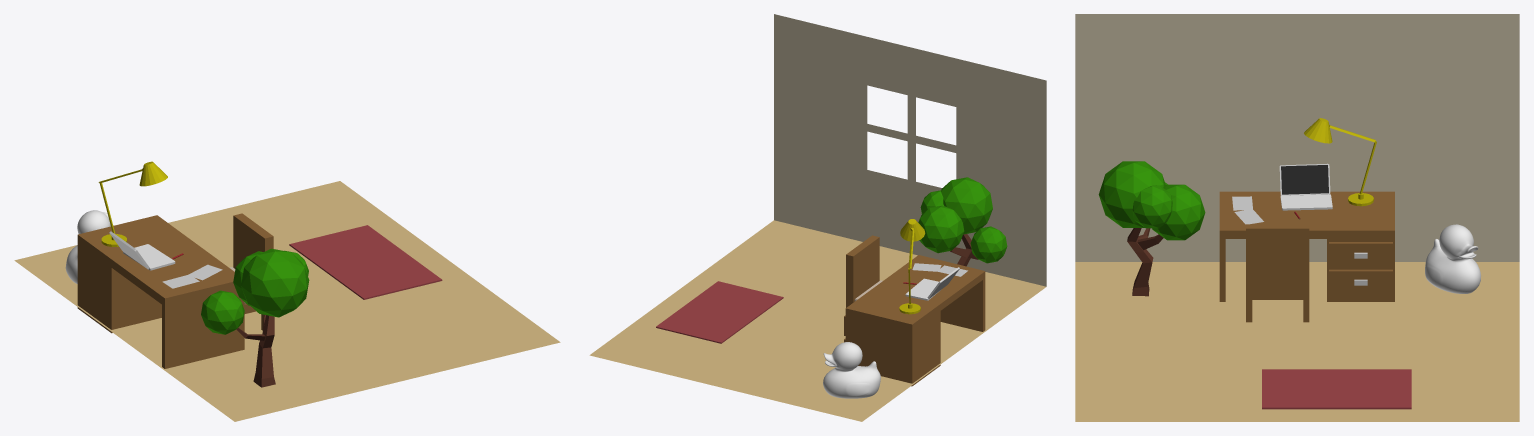
Rendered from baked.gltf.
3 views of the same model, side by side, from view 1: azimuth 30°, elevation 25°; view 2: azimuth 150°, elevation 25°; view 3: azimuth 270°, elevation 25° (orthographic). The views are drawn at different scales.
Visible parts, largest first — view 1: Plane, Cube.004, Cube.001, Icosphere.003, Cube.006, Cube, Laptop_Cube.010, Cylinder.001, rubber_duck_toy; view 2: Plane, Cube.004, Icosphere.003, Cube.001, rubber_duck_toy, Cube.006, Cylinder.001, Laptop_Cube.010; view 3: Plane, Cube.004, Cube.001, Icosphere.003, Cube.006, rubber_duck_toy, Laptop_Cube.010, Cube, Cylinder.001.
Part boxes in pixels (bbox=[...]): Plane: bbox=[14, 181, 560, 421]; Cube.004: bbox=[77, 215, 244, 368]; Cube.001: bbox=[289, 225, 442, 299]; Icosphere.003: bbox=[201, 248, 309, 334]; Cube.006: bbox=[229, 213, 273, 330]; Cube: bbox=[236, 315, 275, 387]; Laptop_Cube.010: bbox=[109, 231, 175, 270]; Cylinder.001: bbox=[98, 161, 167, 246]; rubber_duck_toy: bbox=[65, 210, 110, 283]; Plane: bbox=[589, 14, 1046, 421]; Cube.004: bbox=[844, 255, 985, 386]; Icosphere.003: bbox=[918, 177, 1007, 263]; Cube.001: bbox=[656, 281, 783, 343]; rubber_duck_toy: bbox=[823, 342, 880, 398]; Cube.006: bbox=[846, 235, 882, 307]; Cylinder.001: bbox=[899, 219, 925, 314]; Laptop_Cube.010: bbox=[905, 267, 959, 300]; Plane: bbox=[1075, 14, 1519, 421]; Cube.004: bbox=[1219, 191, 1394, 301]; Cube.001: bbox=[1262, 369, 1411, 409]; Icosphere.003: bbox=[1098, 161, 1205, 240]; Cube.006: bbox=[1246, 224, 1309, 322]; rubber_duck_toy: bbox=[1425, 224, 1480, 293]; Laptop_Cube.010: bbox=[1279, 163, 1332, 210]; Cube: bbox=[1127, 228, 1163, 296]; Cylinder.001: bbox=[1304, 118, 1376, 206].
Size of the model in its own units: 2.56 by 1.92 by 3.
